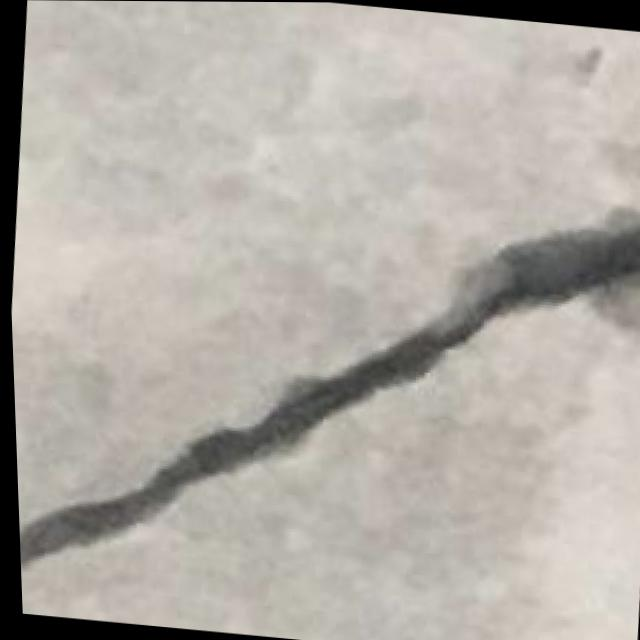Crack: (4, 149, 640, 629)
